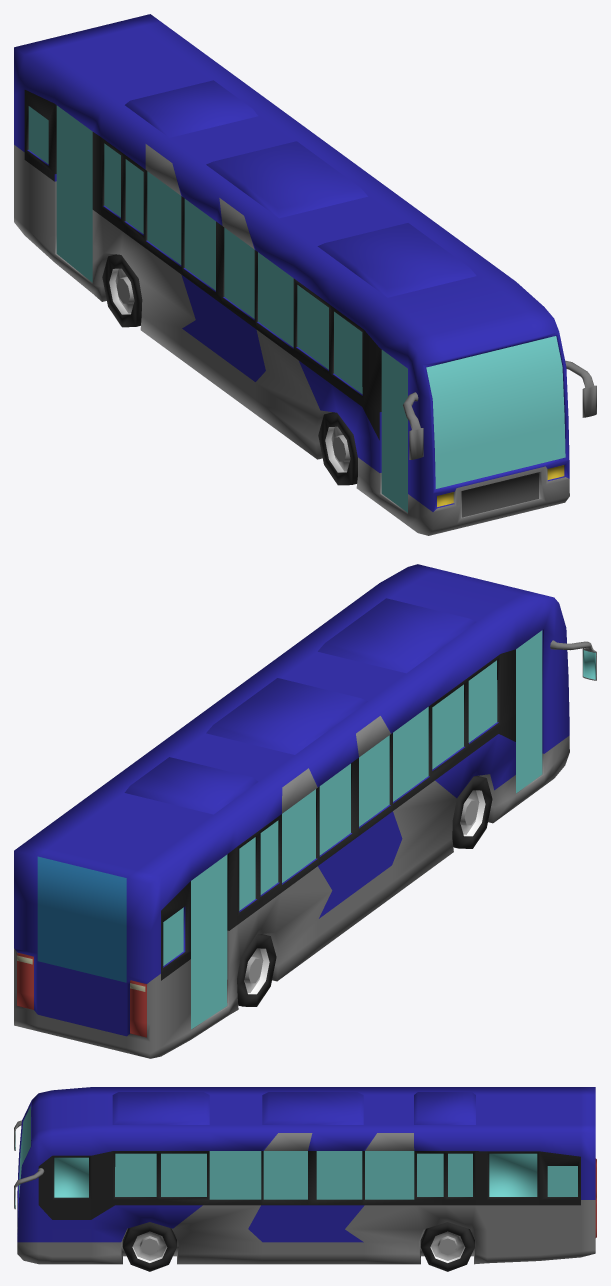
Rendered from InvertedBus.fbx.
3 views of the same model, one above another, from view 1: azimuth 30°, elevation 25°; view 2: azimuth 150°, elevation 25°; view 3: azimuth 270°, elevation 25° (orthographic). The views are drawn at different scales.
Visible parts, largest first — view 1: Bus; view 2: Bus; view 3: Bus.
Part boxes in pixels (box(x1,y1,x2,y2)): Bus: box(14, 14, 596, 535); Bus: box(14, 564, 596, 1058); Bus: box(14, 1087, 596, 1271).
Bounding box in the file's own units: 341 × 360 × 1329.
